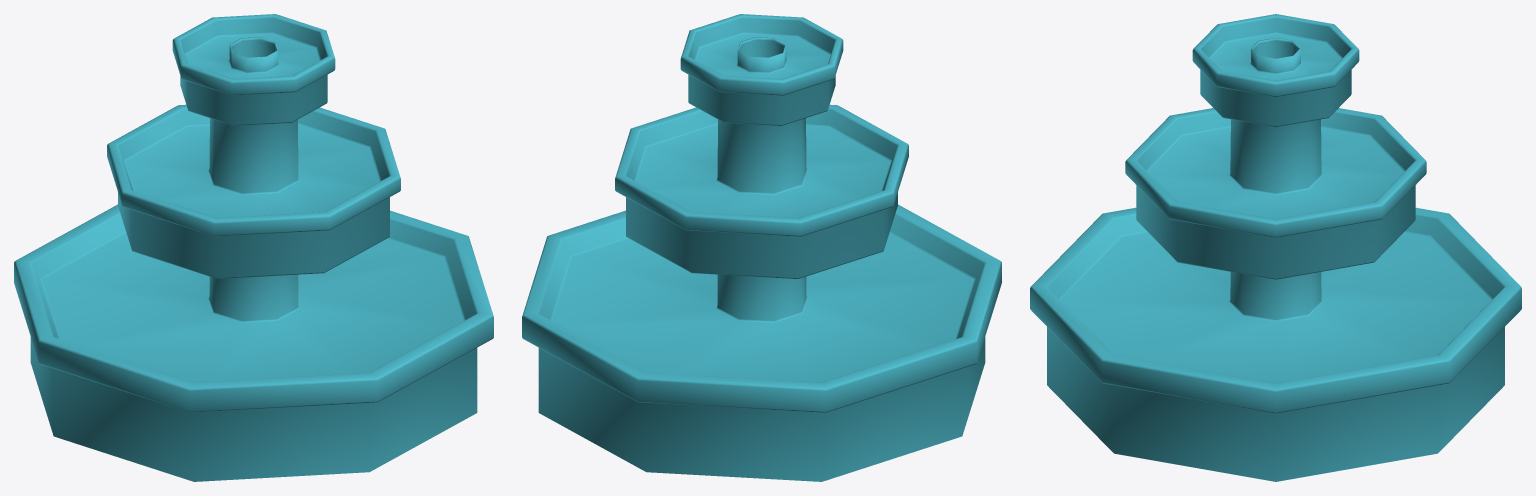
File: waterSource.fbx
3 renders of one model, left to right at view 1: azimuth 30°, elevation 25°; view 2: azimuth 150°, elevation 25°; view 3: azimuth 270°, elevation 25°, orthographic.
Visible parts, largest first — view 1: waterSource; view 2: waterSource; view 3: waterSource.
Part boxes in pixels (<box>): waterSource: <box>14,14,493,481</box>; waterSource: <box>522,14,1001,481</box>; waterSource: <box>1030,14,1521,481</box>.
Bounding box in the file's own units: 374 × 282 × 374.
